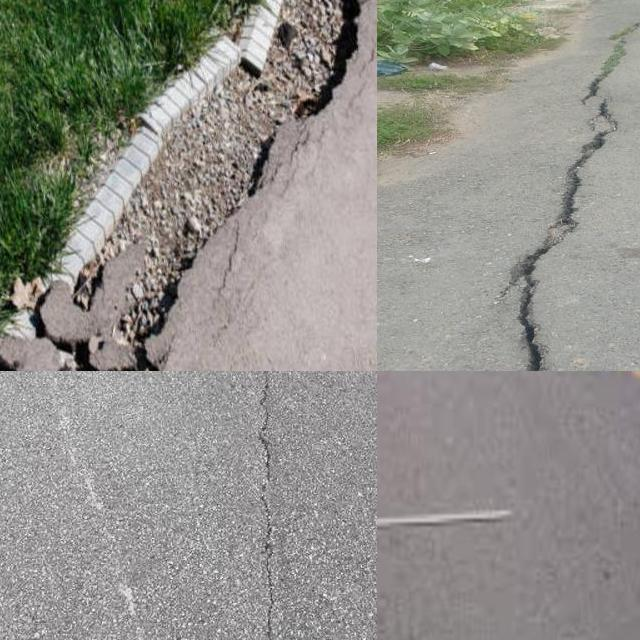Memanjang: (480, 0, 640, 371), (247, 371, 305, 640)
Pinggir: (0, 0, 375, 371)
